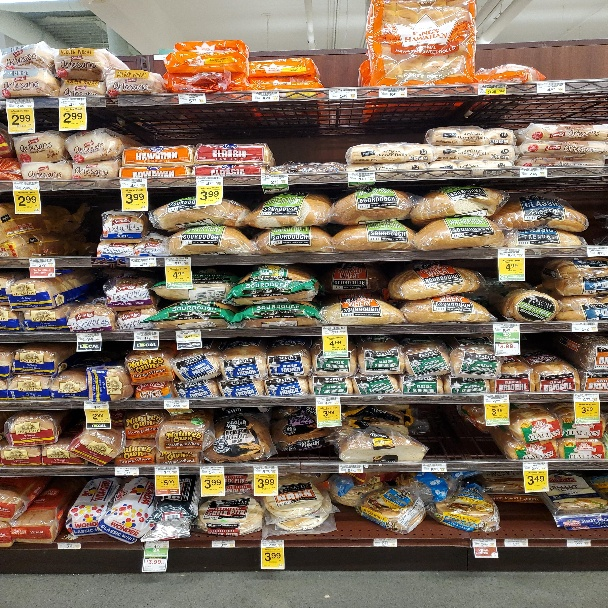All PRICE TAGS: (494, 324, 520, 340), (329, 87, 356, 99), (519, 167, 548, 178), (479, 84, 507, 95), (522, 461, 549, 472), (178, 93, 205, 104), (58, 97, 87, 107), (6, 98, 35, 108), (499, 248, 525, 259), (380, 87, 406, 98), (537, 83, 565, 93), (11, 180, 39, 190), (176, 329, 201, 340), (129, 257, 156, 267), (348, 171, 375, 181), (260, 173, 287, 183), (28, 257, 55, 267), (252, 91, 279, 101), (164, 257, 191, 266), (196, 176, 223, 185), (120, 178, 147, 187), (339, 464, 365, 473), (76, 333, 102, 342), (315, 396, 340, 405), (322, 326, 347, 335), (134, 331, 159, 340), (423, 463, 447, 472), (253, 465, 277, 474), (472, 539, 496, 548), (84, 400, 108, 409), (573, 393, 599, 401), (483, 396, 509, 404), (212, 539, 235, 548), (163, 400, 188, 408), (572, 323, 597, 331), (145, 540, 167, 549), (200, 466, 224, 474), (155, 466, 179, 474), (504, 538, 528, 546), (57, 542, 81, 550), (115, 467, 138, 475), (374, 539, 397, 547), (261, 540, 284, 548), (568, 539, 591, 547)
